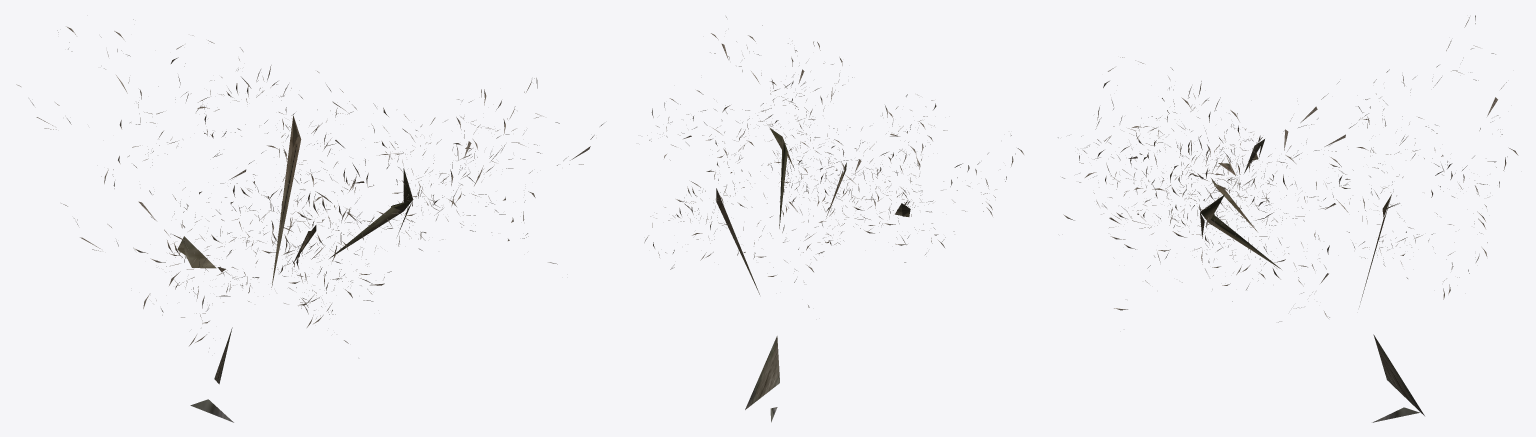
File: VG_Bush.glb
The picture shows the model from 3 angles, left to right: view 1: azimuth 30°, elevation 25°; view 2: azimuth 150°, elevation 25°; view 3: azimuth 270°, elevation 25°; orthographic projection. The views are drawn at different scales.
Parts seen in each view (by area): view 1: island_tree_02_LOD0; view 2: island_tree_02_LOD0; view 3: island_tree_02_LOD0.
Boxes of the visible parts, x1,y1,x2,y2 form: island_tree_02_LOD0: (16,19,603,422); island_tree_02_LOD0: (644,17,1023,422); island_tree_02_LOD0: (1058,15,1518,422).
Size of the model in its own units: 3.72 by 3.31 by 3.84.
2 materials, 2 textured.
